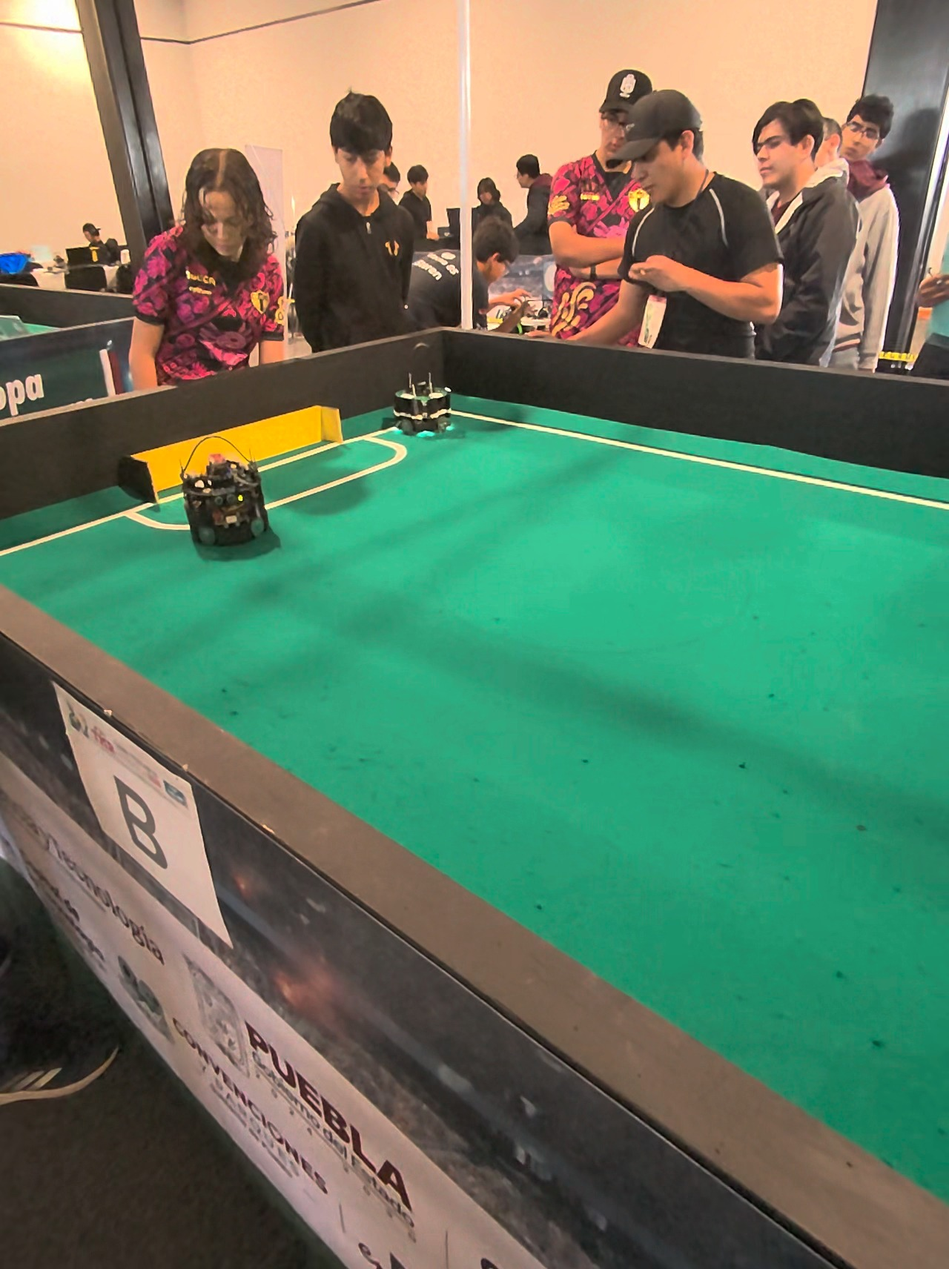Robot: (180, 438, 277, 559), (392, 338, 455, 447)
